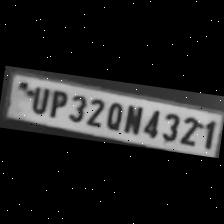1: (198, 116, 220, 151)
2: (176, 113, 202, 148), (84, 95, 106, 128)
3: (64, 90, 88, 124), (158, 109, 181, 143)
4: (140, 105, 162, 138)
N: (120, 101, 144, 135)
P: (44, 86, 68, 119)
Q: (103, 98, 125, 132)
U: (26, 83, 50, 116)
